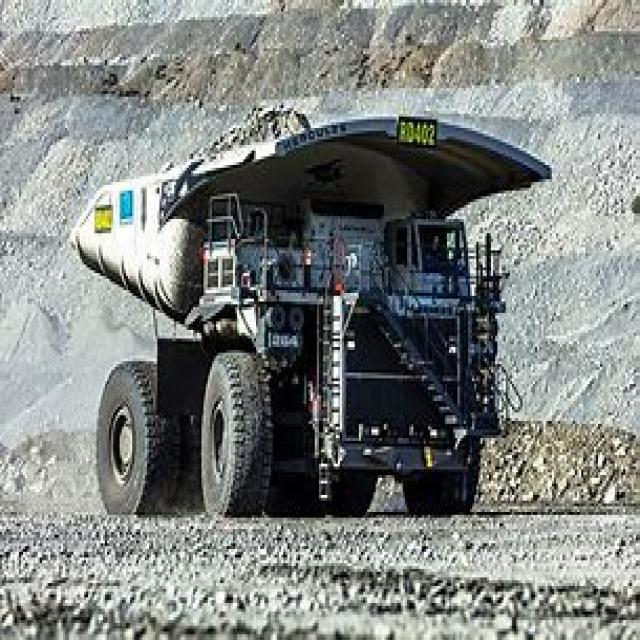dump_truck: (59, 97, 556, 520)
